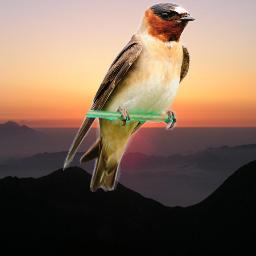Swallow: (63, 2, 196, 192)
